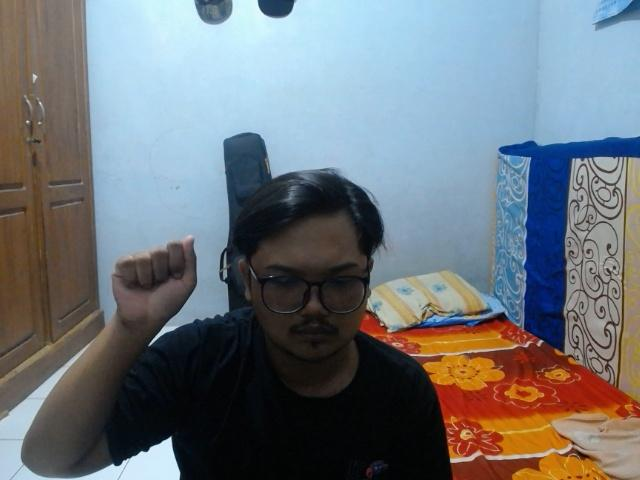Grab: (110, 233, 200, 329)
